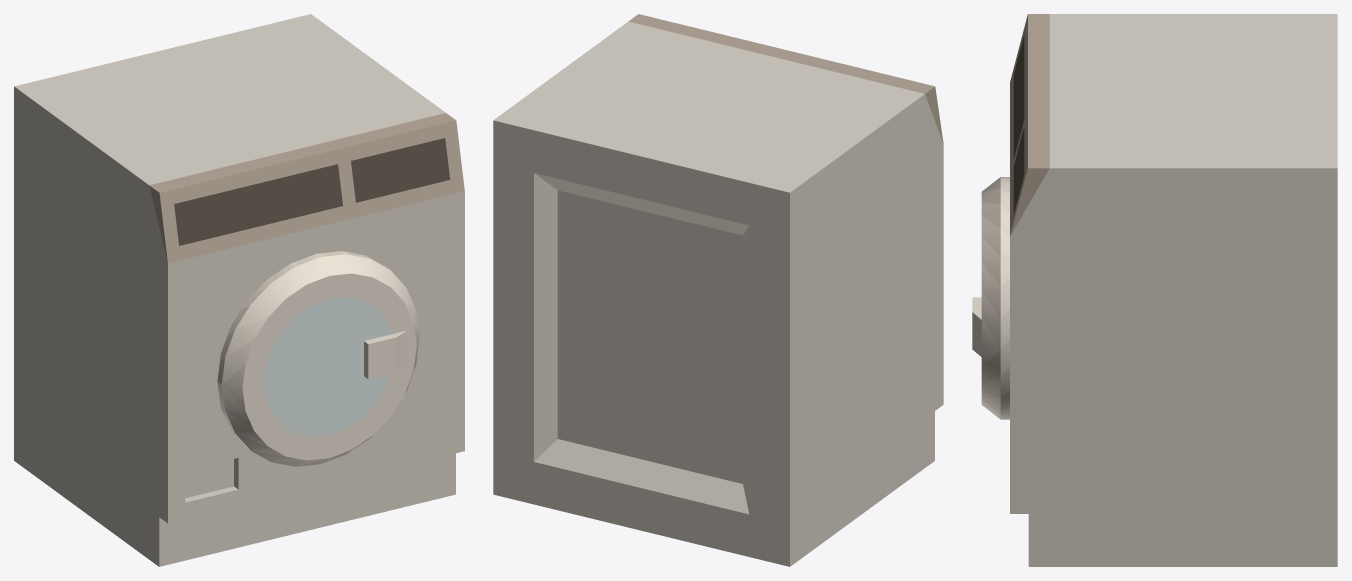
Rendered from kitWasher.glb.
The picture shows the model from 3 angles, left to right: view 1: azimuth 30°, elevation 25°; view 2: azimuth 150°, elevation 25°; view 3: azimuth 270°, elevation 25°; orthographic projection. The views are drawn at different scales.
Visible parts, largest first — view 1: kitWasher_metalLight, kitWasher_metal, kitWasher_metalMedium, kitWasher_glass, kitWasher_metalDark; view 2: kitWasher_metalLight, kitWasher_metalMedium; view 3: kitWasher_metalLight, kitWasher_metal, kitWasher_metalMedium, kitWasher_metalDark.
Boxes of the visible parts, x1,y1,x2,y2 form: kitWasher_metalLight: [14, 14, 464, 566]; kitWasher_metal: [217, 251, 419, 466]; kitWasher_metalMedium: [149, 113, 464, 263]; kitWasher_glass: [264, 297, 391, 436]; kitWasher_metalDark: [174, 138, 450, 245]; kitWasher_metalLight: [493, 21, 943, 566]; kitWasher_metalMedium: [628, 14, 943, 143]; kitWasher_metalLight: [1010, 14, 1337, 566]; kitWasher_metal: [972, 177, 1009, 419]; kitWasher_metalMedium: [1010, 14, 1049, 236]; kitWasher_metalDark: [1013, 35, 1024, 214].
Bounding box in the file's own units: 0.78 × 0.94 × 0.78.
